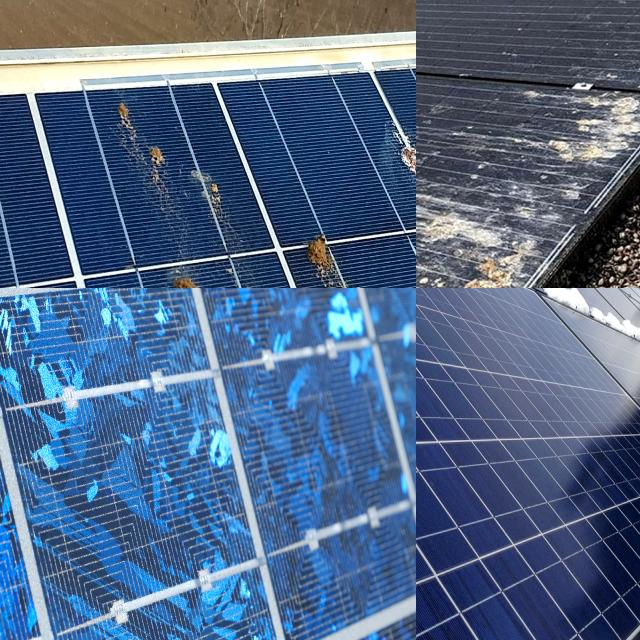bird: (546, 60, 640, 171), (419, 212, 554, 288), (113, 92, 174, 205), (416, 189, 467, 288), (180, 150, 226, 229), (375, 105, 416, 186), (299, 227, 349, 288), (158, 256, 234, 288), (416, 31, 444, 98)
crack: (0, 288, 416, 640)
panel: (547, 288, 640, 358), (416, 288, 520, 347), (416, 288, 470, 334)
